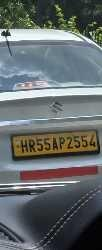License plate: (11, 129, 99, 157)
